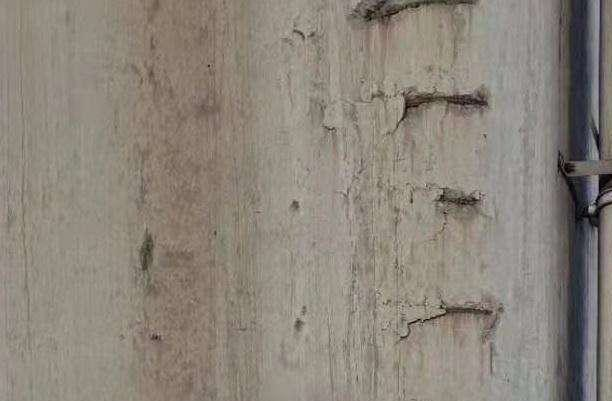Exposed reinforcement: (365, 1, 474, 22), (405, 94, 489, 109), (438, 194, 479, 206), (446, 307, 494, 316)
